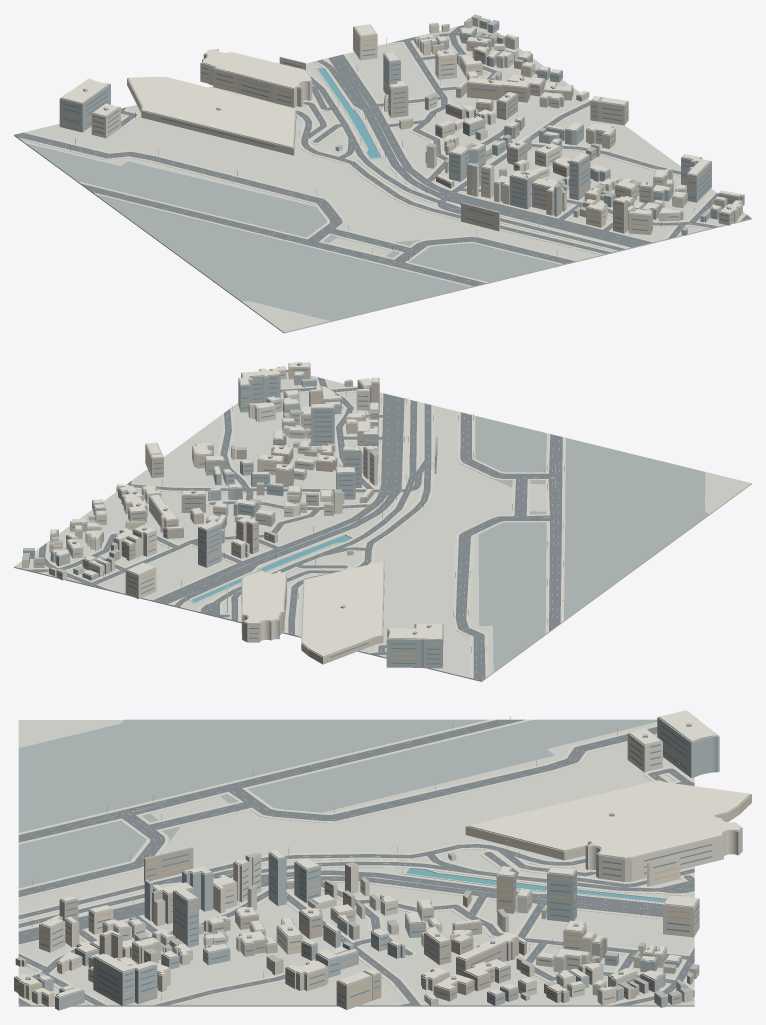
The picture shows the model from 3 angles, top to bottom: view 1: azimuth 30°, elevation 25°; view 2: azimuth 150°, elevation 25°; view 3: azimuth 270°, elevation 25°; orthographic projection. The views are drawn at different scales.
Parts seen in each view (by area): view 1: city; view 2: city; view 3: city.
Boxes of the visible parts, x1,y1,x2,y2 form: city: (14, 14, 751, 333); city: (14, 362, 751, 681); city: (14, 710, 751, 1010).
Bounding box in the file's own units: 509 × 39.65 × 546.
